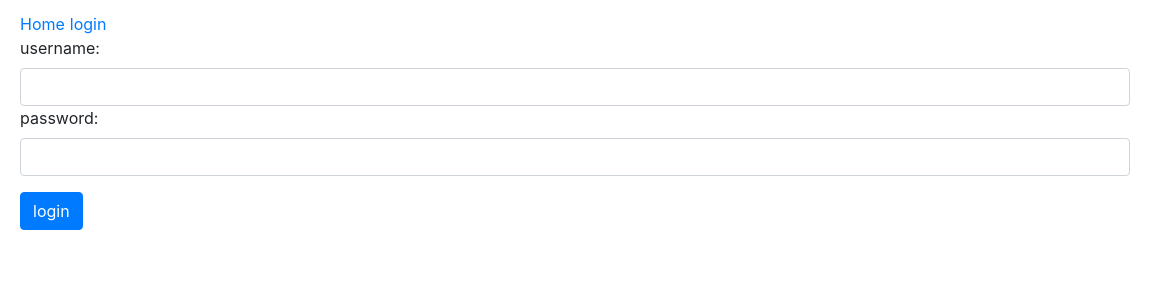
Test case: Blog app › Login › succeeds with wrong credentials
Expected: the link "login" is shown, x1=70 y1=14 x2=111 y2=34
Type "MrPaco" into the field with id "username". click: (575, 87)
box: x1=20 y1=68 x2=1130 y2=106
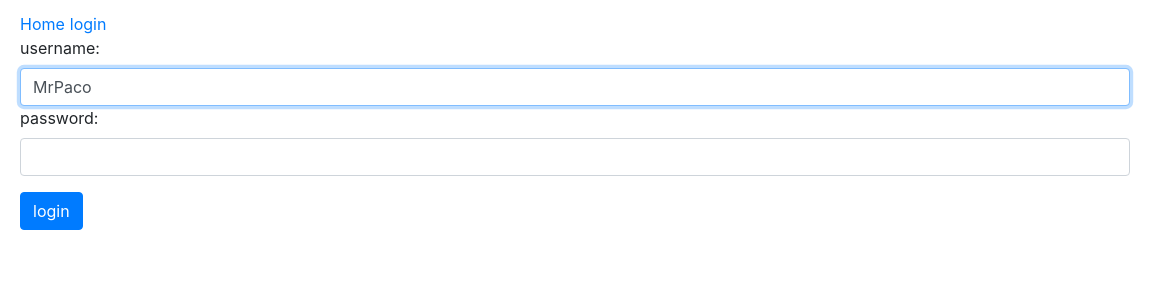
Type "wrong" into the password field. click: (575, 157)
box: x1=20 y1=138 x2=1130 y2=176
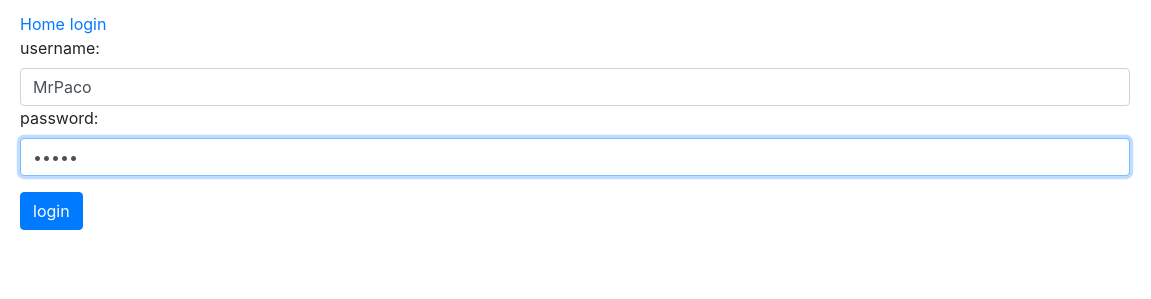
Click the button with id "login-button". click: (52, 211)
box: x1=20 y1=192 x2=83 y2=230
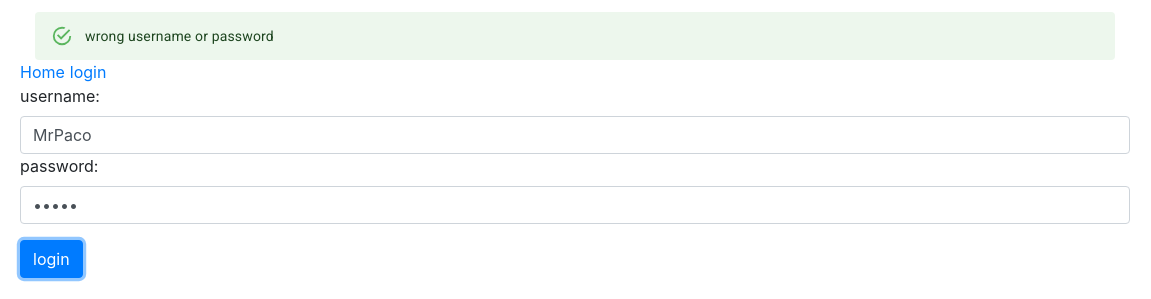
Expected: the text "wrong username or password" is shown, x1=85 y1=28 x2=274 y2=44
